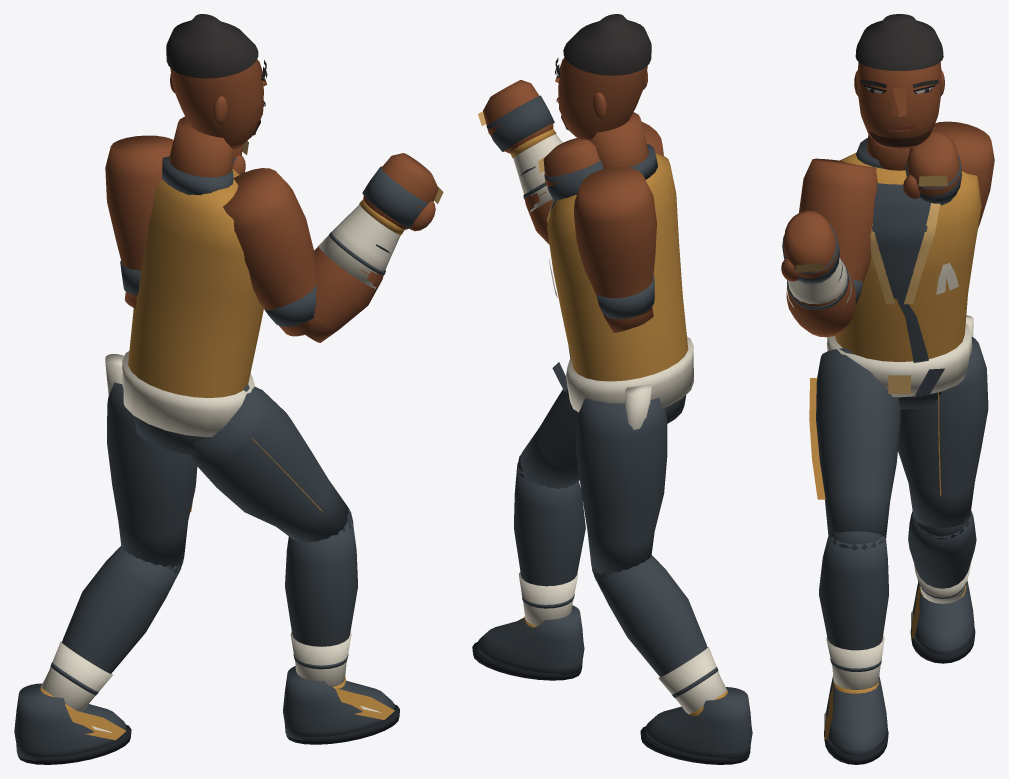
Rendered from shan-rig-art-20261104.glb.
3 views of the same model, side by side, from view 1: azimuth 30°, elevation 25°; view 2: azimuth 150°, elevation 25°; view 3: azimuth 270°, elevation 25° (orthographic). The views are drawn at different scales.
Visible parts, largest first — view 1: shan__torso_surface, shan__thighF_surface, shan__shinB_surface, shan__thighB_surface, shan__upperArmF_surface, shan__head_surface, shan__shinF_surface, shan__forearmF_surface, shan__footB_surface, shan__upperArmB_surface, shan__footF_surface, shan__pelvis_surface (+1 smaller); view 2: shan__torso_surface, shan__thighB_surface, shan__upperArmB_surface, shan__shinB_surface, shan__head_surface, shan__shinF_surface, shan__footB_surface, shan__footF_surface, shan__pelvis_surface, shan__thighF_surface, shan__handF_surface, shan__forearmF_surface (+3 smaller); view 3: shan__torso_surface, shan__thighF_surface, shan__thighB_surface, shan__head_surface, shan__shinF_surface, shan__upperArmF_surface, shan__shinB_surface, shan__footF_surface, shan__pelvis_surface, shan__footB_surface, shan__forearmF_surface, shan__handF_surface (+2 smaller).
Part boxes in pixels (box(x1,y1,x2,y2)): shan__torso_surface: box(128, 116, 263, 397); shan__thighF_surface: box(189, 385, 348, 542); shan__shinB_surface: box(40, 546, 182, 711); shan__thighB_surface: box(107, 382, 197, 567); shan__upperArmF_surface: box(223, 168, 316, 336); shan__head_surface: box(166, 14, 267, 149); shan__shinF_surface: box(285, 507, 357, 688); shan__forearmF_surface: box(302, 199, 404, 342); shan__footB_surface: box(14, 683, 131, 764); shan__upperArmB_surface: box(105, 135, 173, 299); shan__footF_surface: box(283, 666, 399, 744); shan__pelvis_surface: box(122, 351, 254, 455); shan__torso_surface: box(547, 112, 688, 381); shan__thighB_surface: box(576, 397, 667, 574); shan__upperArmB_surface: box(574, 166, 656, 327); shan__shinB_surface: box(592, 555, 727, 716); shan__head_surface: box(555, 14, 651, 140); shan__shinF_surface: box(514, 454, 585, 627); shan__footB_surface: box(640, 687, 752, 764); shan__footF_surface: box(472, 605, 584, 680); shan__pelvis_surface: box(552, 336, 693, 423); shan__thighF_surface: box(520, 389, 579, 488); shan__handF_surface: box(478, 80, 554, 153); shan__forearmF_surface: box(510, 129, 562, 244); shan__torso_surface: box(835, 135, 981, 362); shan__thighF_surface: box(809, 348, 900, 538); shan__thighB_surface: box(898, 337, 988, 527); shan__head_surface: box(854, 14, 944, 148); shan__shinF_surface: box(819, 531, 888, 693); shan__upperArmF_surface: box(799, 158, 877, 303); shan__shinB_surface: box(908, 510, 976, 603); shan__footF_surface: box(824, 675, 888, 764); shan__pelvis_surface: box(827, 323, 972, 409); shan__footB_surface: box(910, 581, 975, 663); shan__forearmF_surface: box(786, 257, 855, 337); shan__handF_surface: box(781, 210, 839, 284).
Size of the model in its own units: 1.65 by 3.24 by 0.9355.
